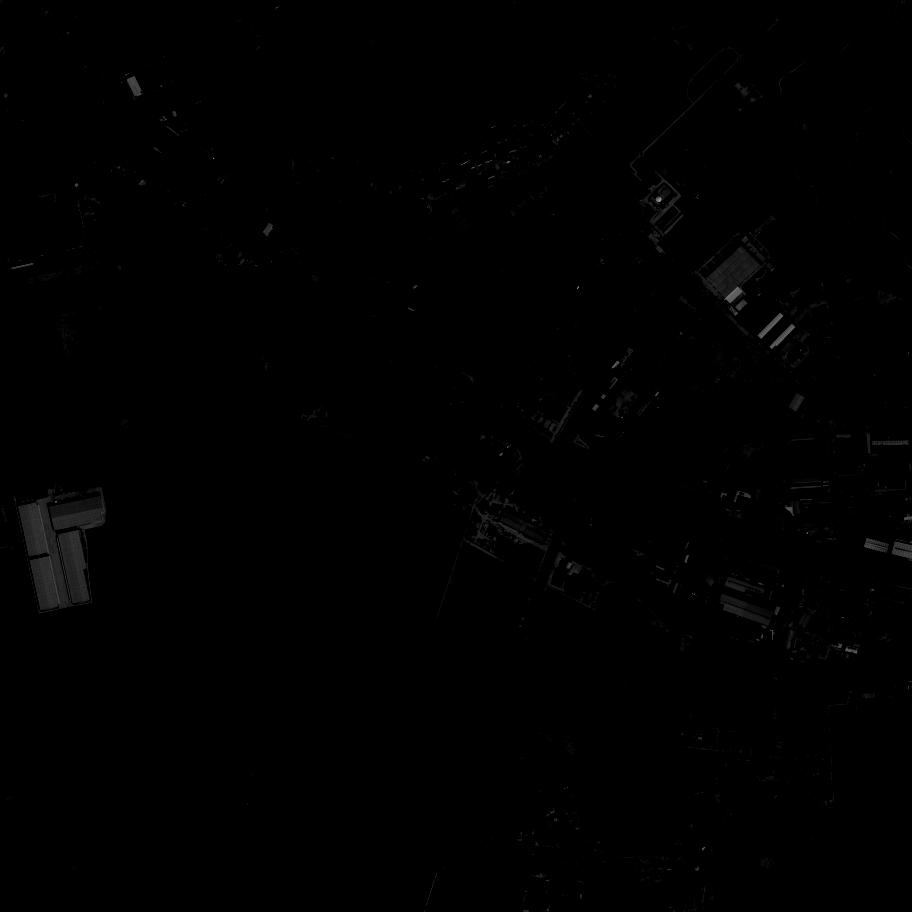ship: (618, 564, 628, 577), (228, 256, 239, 267), (763, 631, 774, 642), (219, 263, 230, 273), (738, 649, 750, 658), (508, 490, 518, 500), (237, 270, 248, 279), (228, 257, 236, 269), (221, 263, 230, 273), (851, 655, 861, 664), (760, 642, 766, 656), (209, 237, 218, 246), (216, 258, 226, 266), (519, 502, 530, 509), (180, 215, 189, 223), (182, 216, 190, 225), (700, 627, 709, 635), (772, 634, 779, 644), (224, 260, 230, 271), (763, 642, 769, 653), (226, 260, 232, 270), (772, 631, 777, 642), (770, 630, 775, 641), (217, 254, 222, 263), (175, 216, 181, 223), (849, 655, 859, 659), (176, 210, 181, 217), (767, 642, 770, 652), (773, 622, 776, 630), (182, 212, 186, 216)
